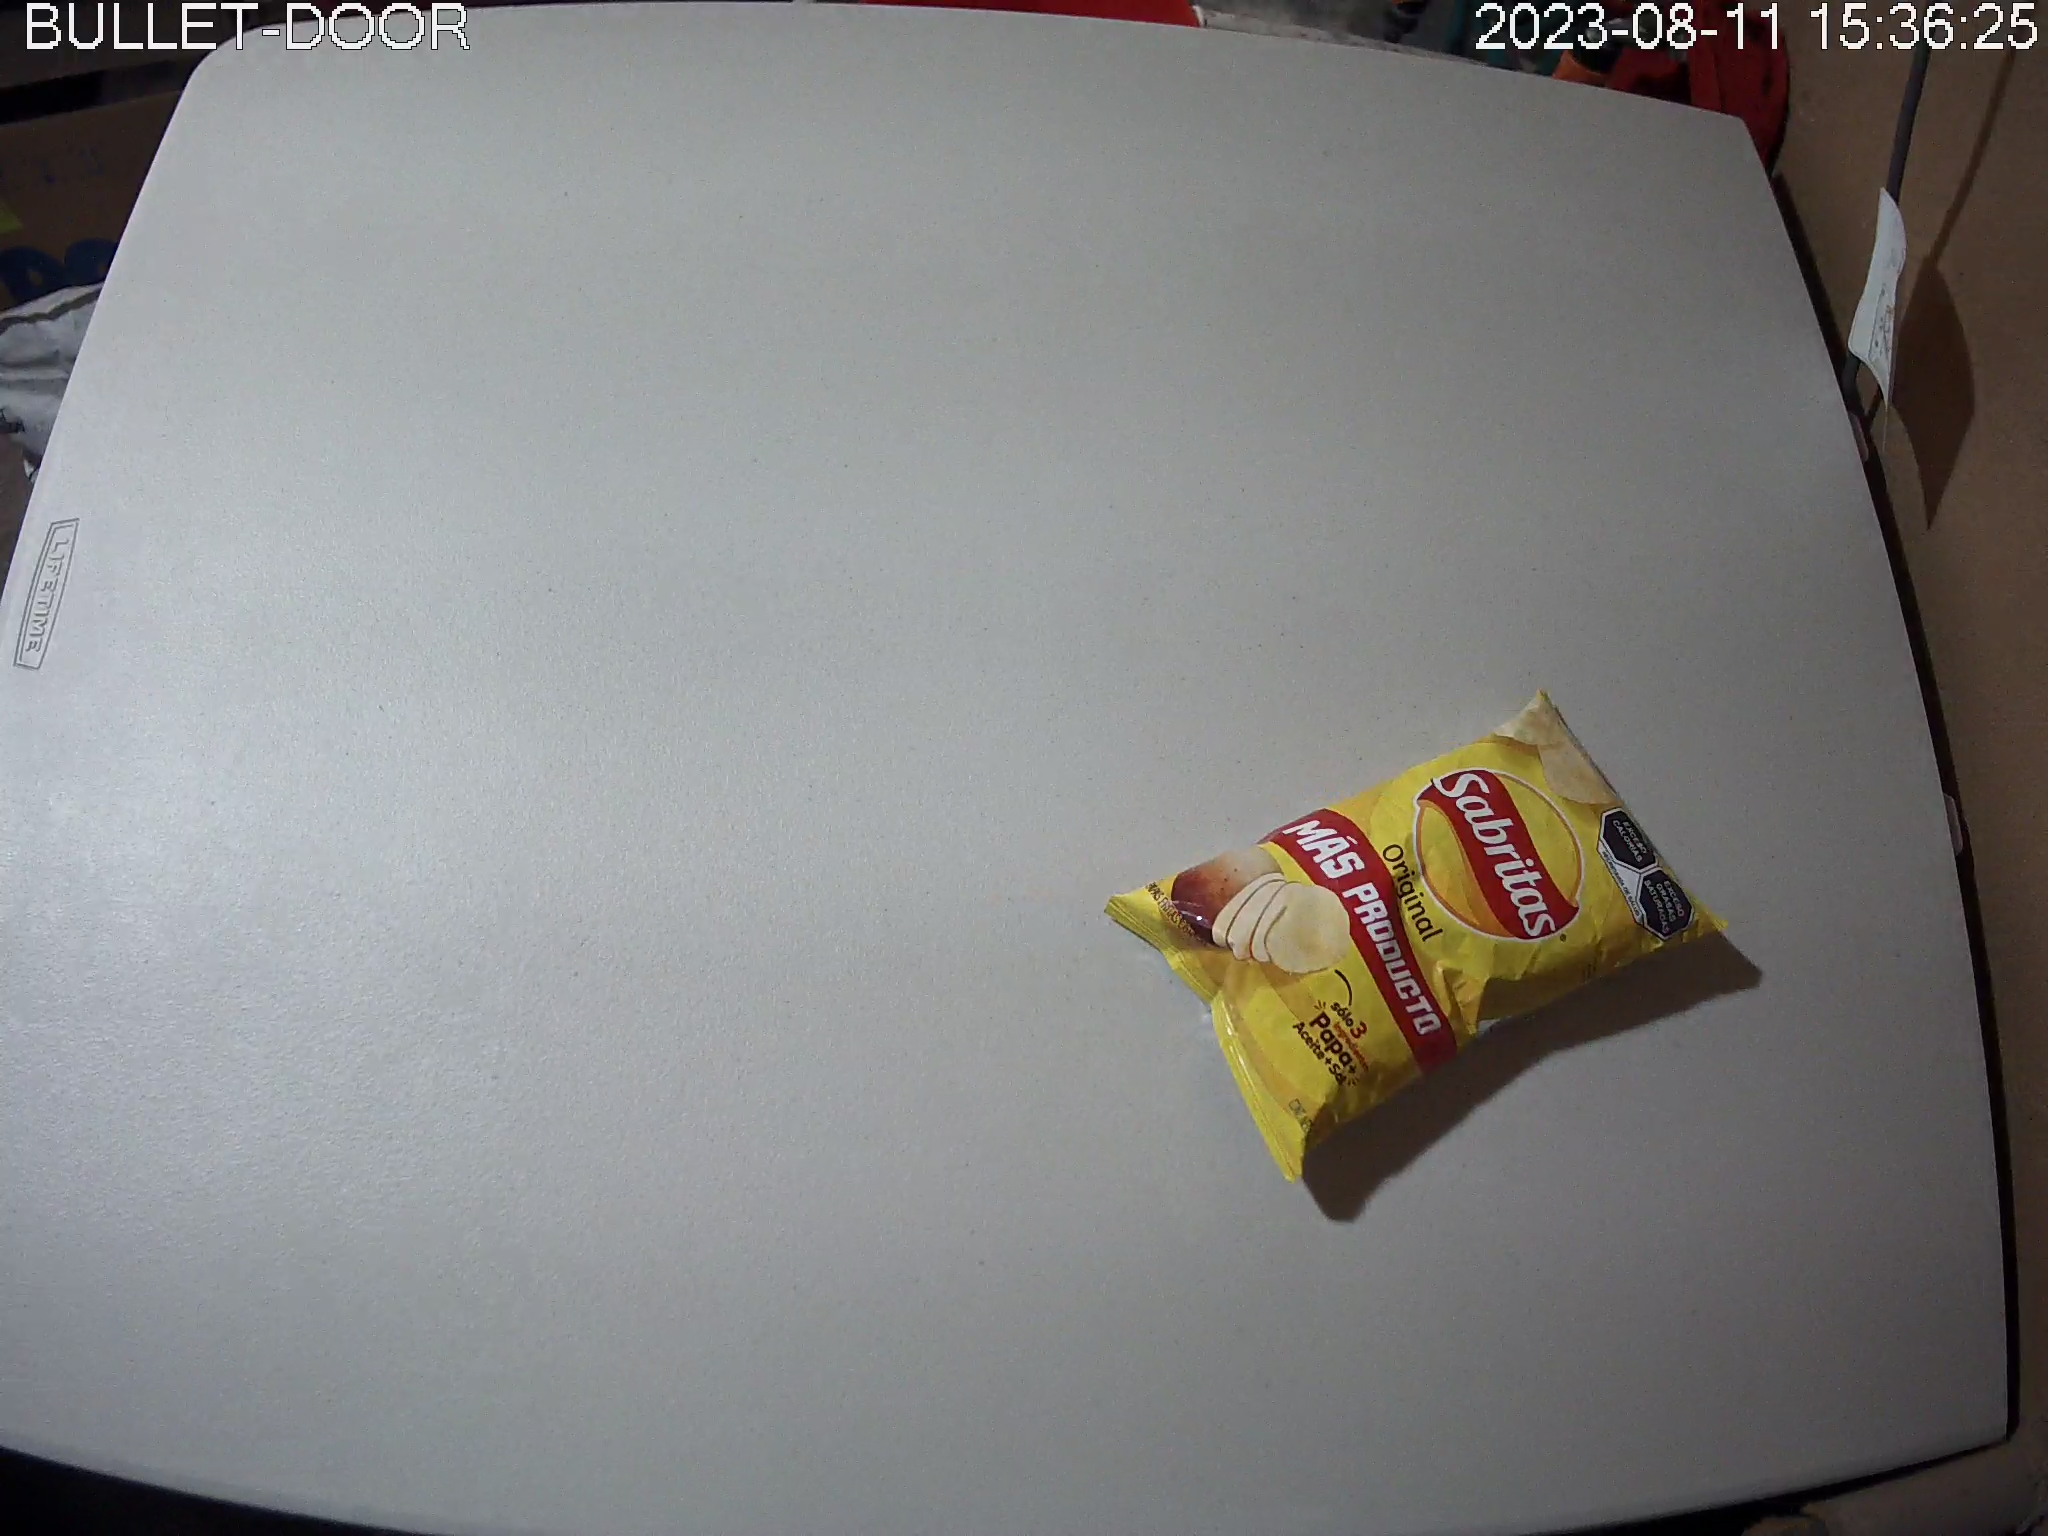Sabritas_45_F: (1106, 691, 1732, 1187)
